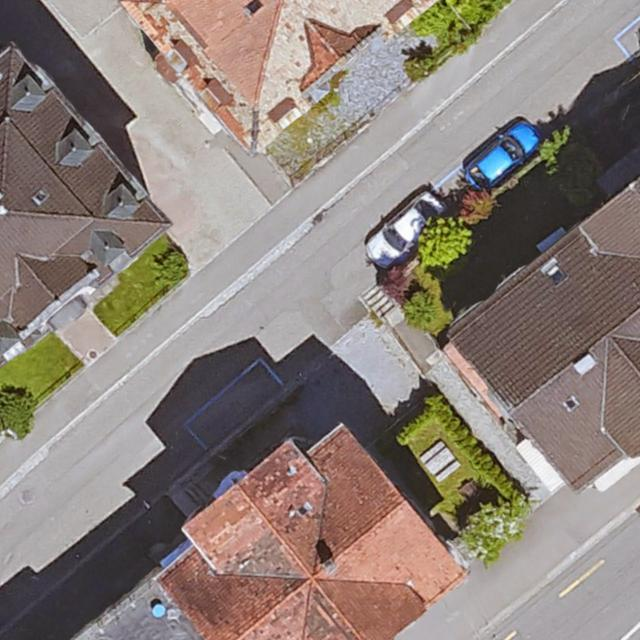tree: (416, 216, 473, 273)
